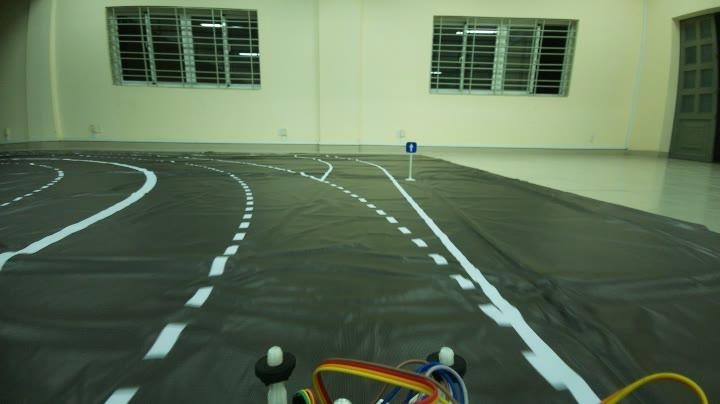onewayroad: (402, 138, 419, 158)
